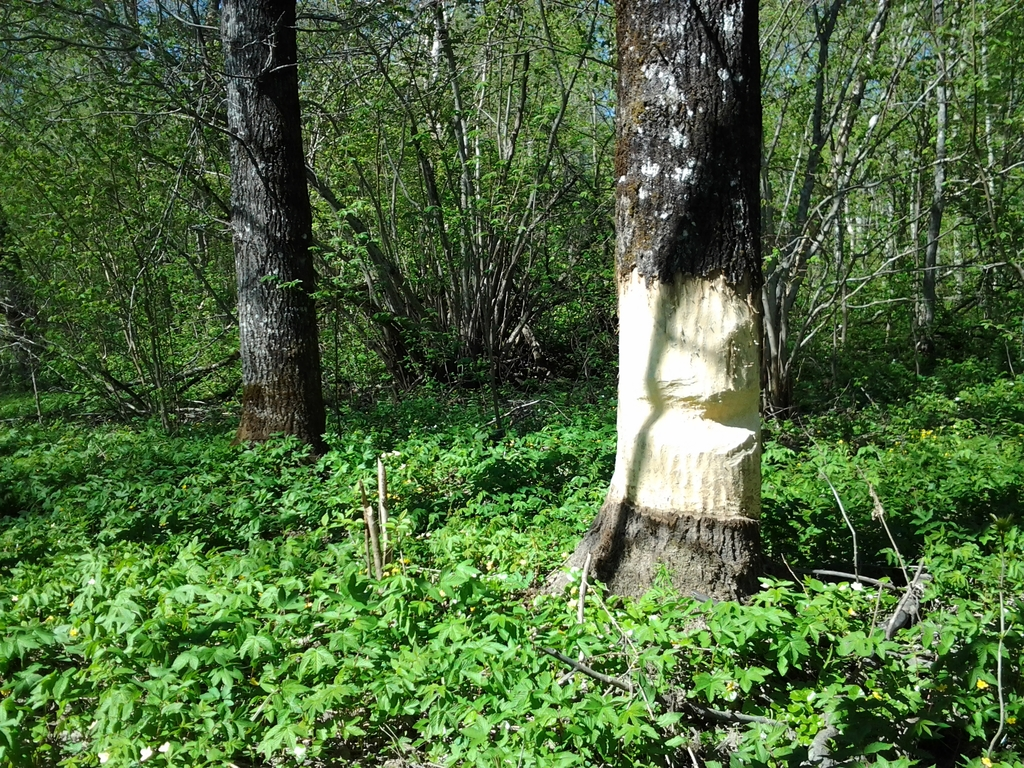Tree: (0, 0, 1023, 472), (556, 32, 805, 613)
